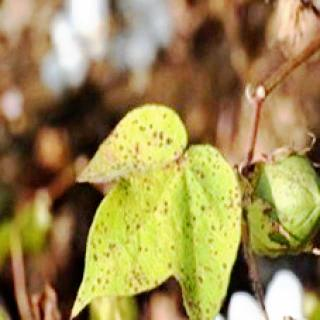leaf spot: (75, 103, 240, 320)
